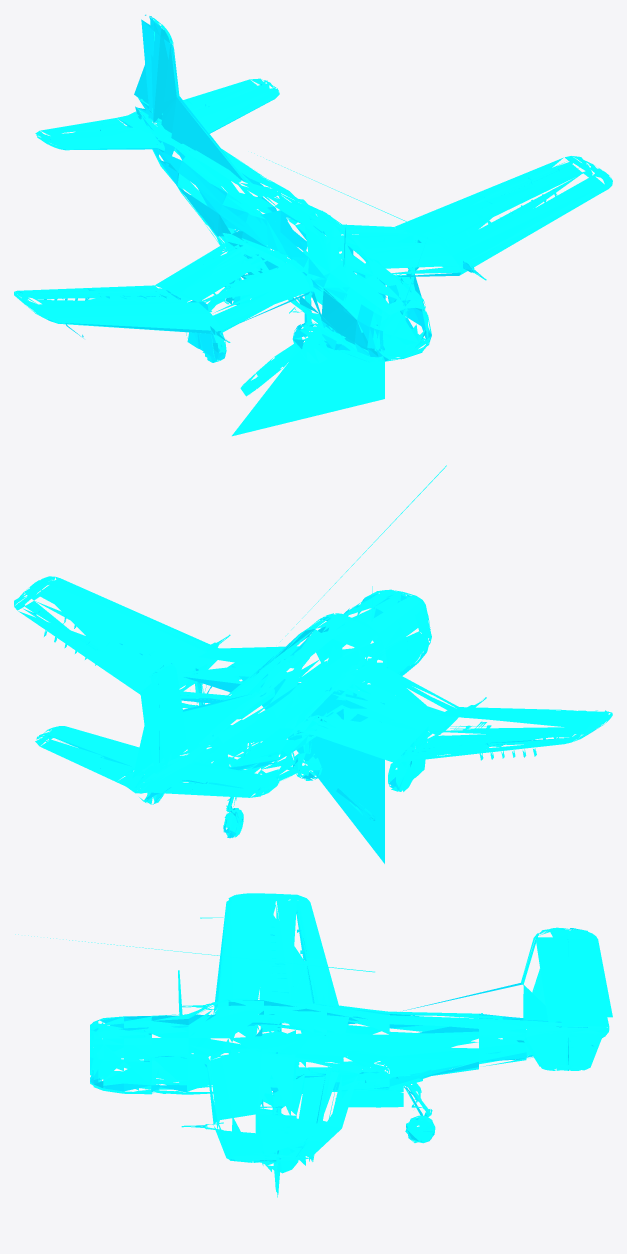
The model's file is PAAB210.glb.
3 views of the same model, one above another, from view 1: azimuth 30°, elevation 25°; view 2: azimuth 150°, elevation 25°; view 3: azimuth 270°, elevation 25° (orthographic). The views are drawn at different scales.
Parts seen in each view (by area): view 1: misc; view 2: misc; view 3: misc.
Boxes of the visible parts, left/top/right/bottom form: misc: left=14, top=14, right=612, bottom=436; misc: left=14, top=465, right=612, bottom=863; misc: left=15, top=893, right=612, bottom=1197.
Size of the model in its own units: 0.9015 by 0.4336 by 0.854.
